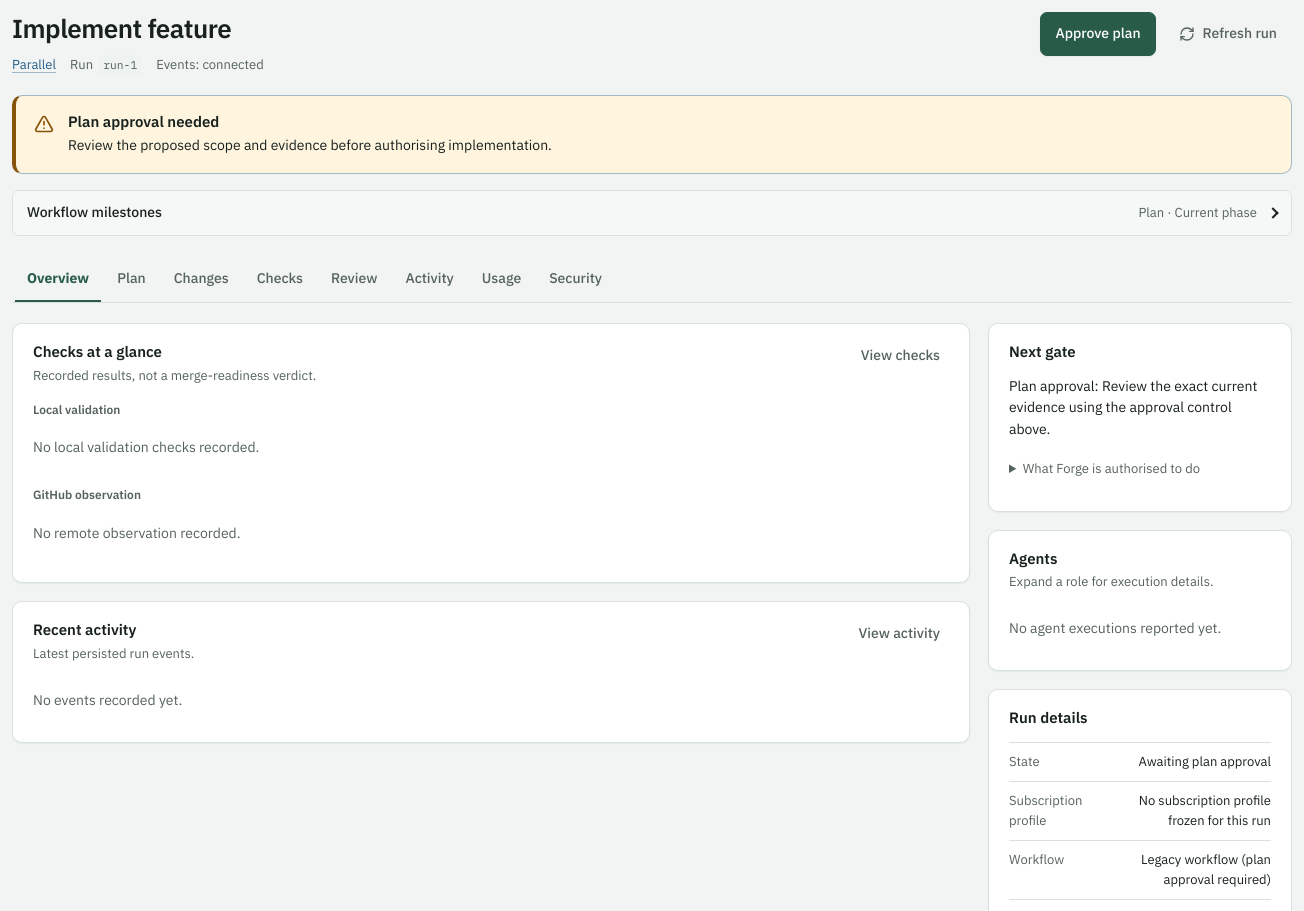
it: cockpit exposes checks and review without inferring release authority
Click the button "Checks": (280, 280) [245,258,315,302]
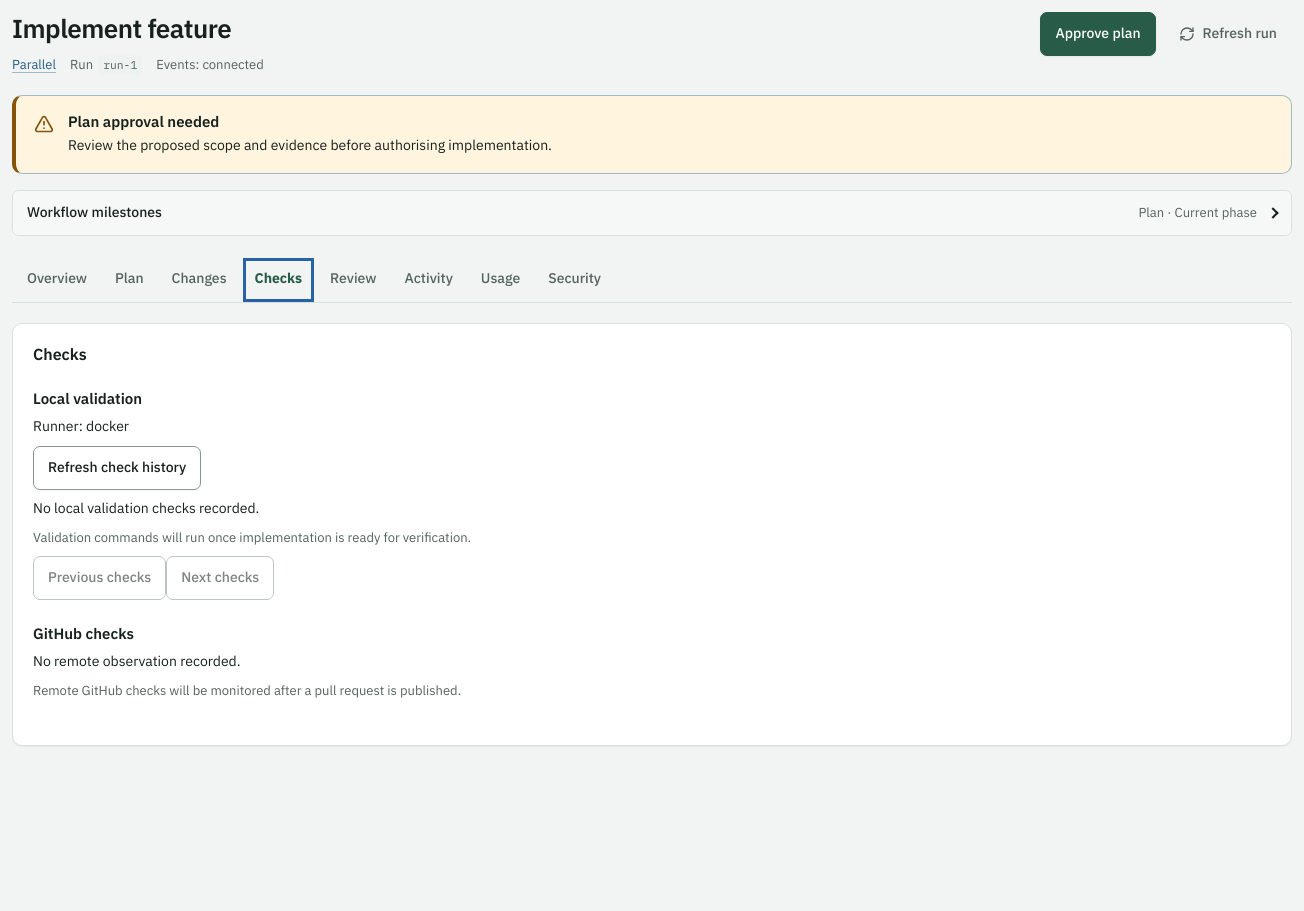
Result: the element named "Check evidence" is shown at [12,323,1292,746]
Click the button "Review": (353, 280) [318,258,388,302]
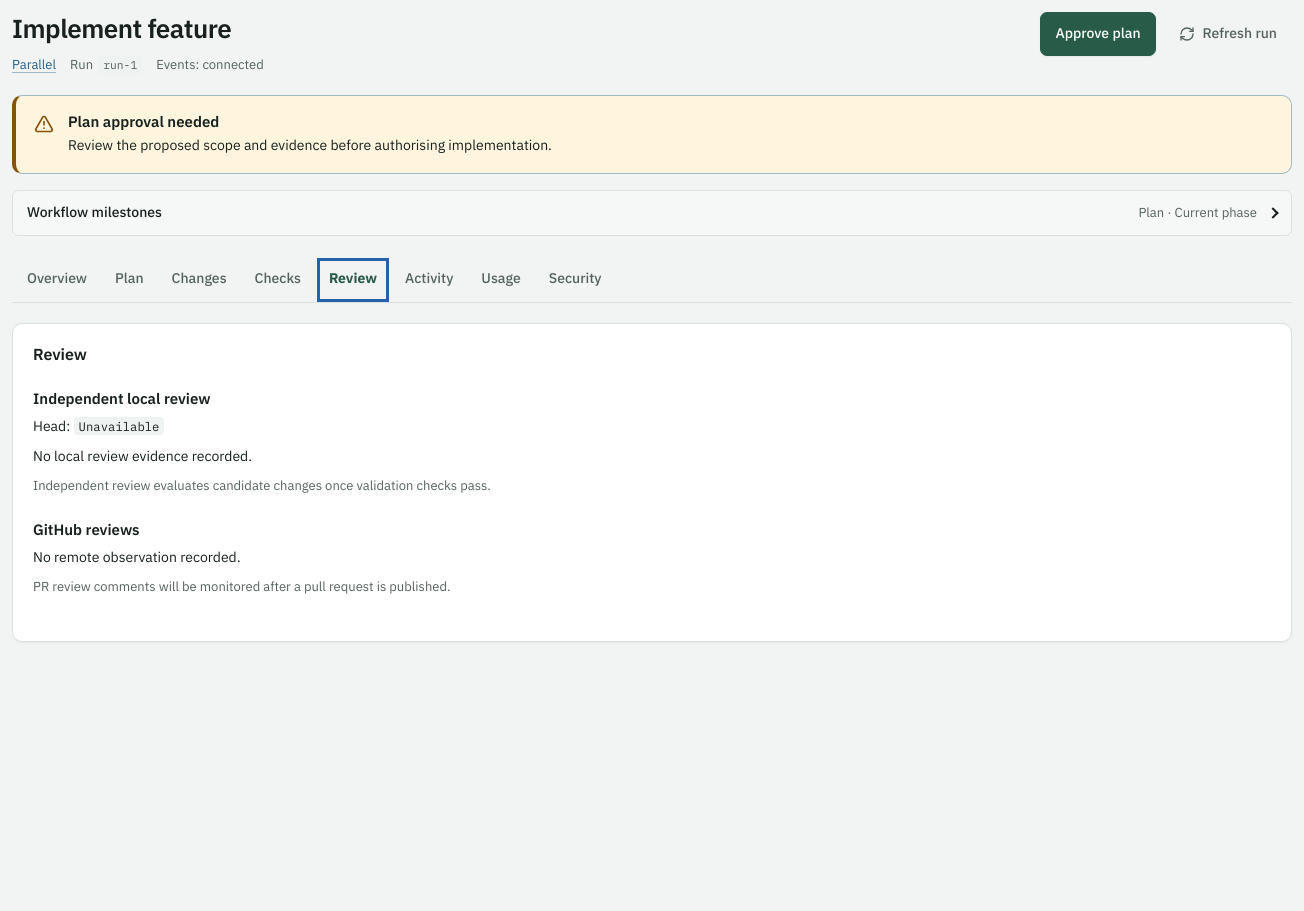
Result: the element "review evidence" is shown at [12,323,1292,642]
Click the button "Activity": (429, 280) [393,258,465,302]
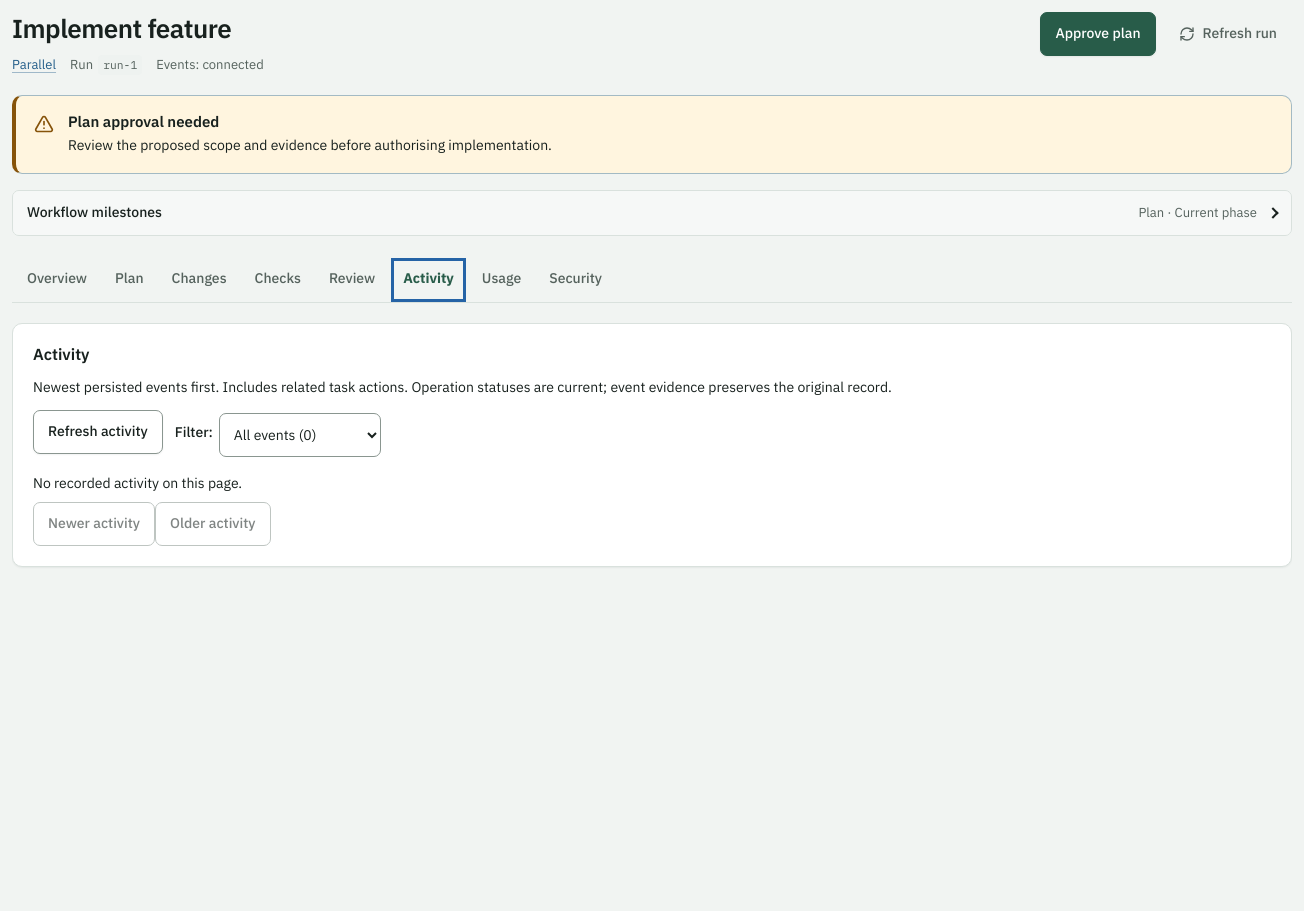
Result: the element named "Run activity" is shown at [12,323,1292,567]
